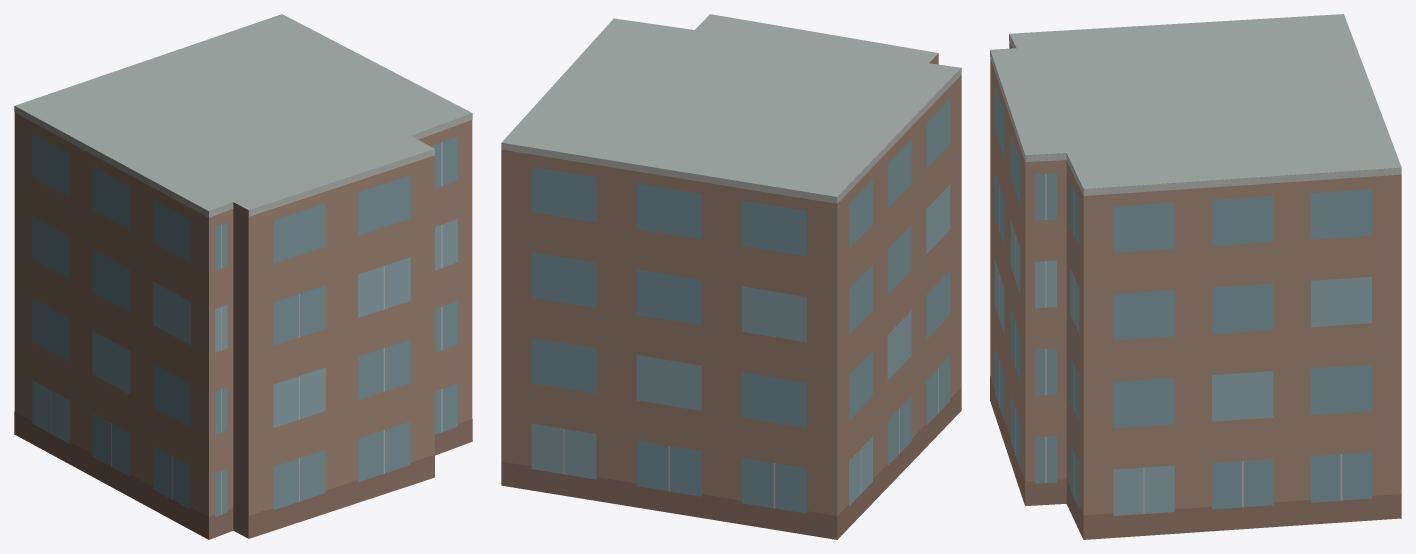
Rendered from survey-upis-32704237.glb.
3 renders of one model, left to right at view 1: azimuth 30°, elevation 25°; view 2: azimuth 150°, elevation 25°; view 3: azimuth 270°, elevation 25°, orthographic. The views are drawn at different scales.
Parts seen in each view (by area): view 1: survey-upis-32704237.tmp; view 2: survey-upis-32704237.tmp; view 3: survey-upis-32704237.tmp.
Boxes of the visible parts, x1=… form: survey-upis-32704237.tmp: x1=14, y1=14, x2=472, y2=539; survey-upis-32704237.tmp: x1=501, y1=14, x2=961, y2=539; survey-upis-32704237.tmp: x1=990, y1=14, x2=1401, y2=539.
Bounding box in the file's own units: 13.07 × 12.2 × 12.98.
